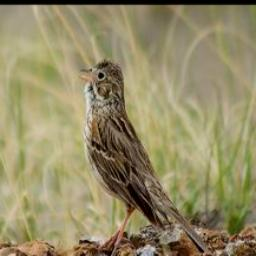Sparrow: (71, 51, 217, 256)
